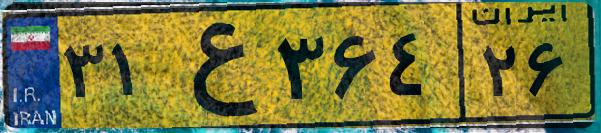1: (110, 28, 158, 98)
2: (475, 38, 525, 113)
3: (270, 28, 330, 110), (57, 26, 110, 100)
4: (385, 28, 445, 110)
6: (330, 28, 385, 110), (525, 38, 570, 115)
ع: (158, 12, 270, 120)
